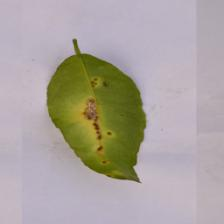canker: (46, 72, 129, 158)
